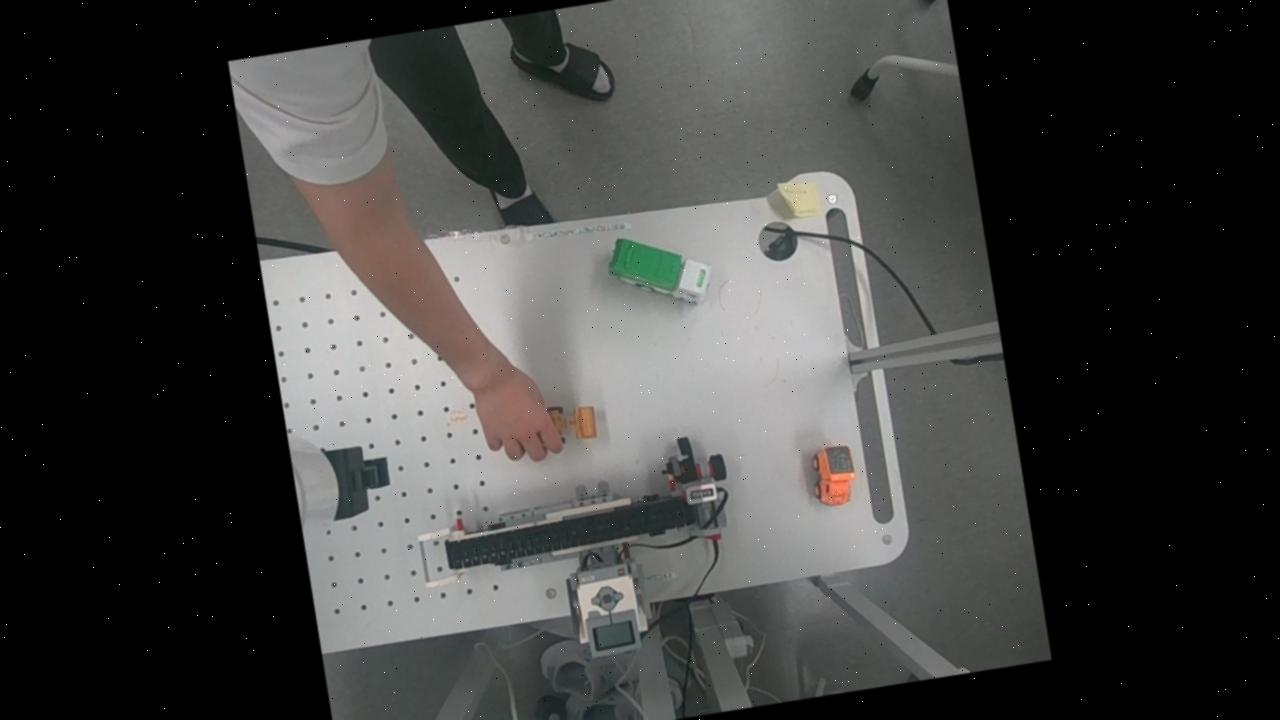green_car: (593, 219, 719, 320)
orange_car: (797, 434, 864, 514)
yellow_car: (548, 395, 604, 443)
